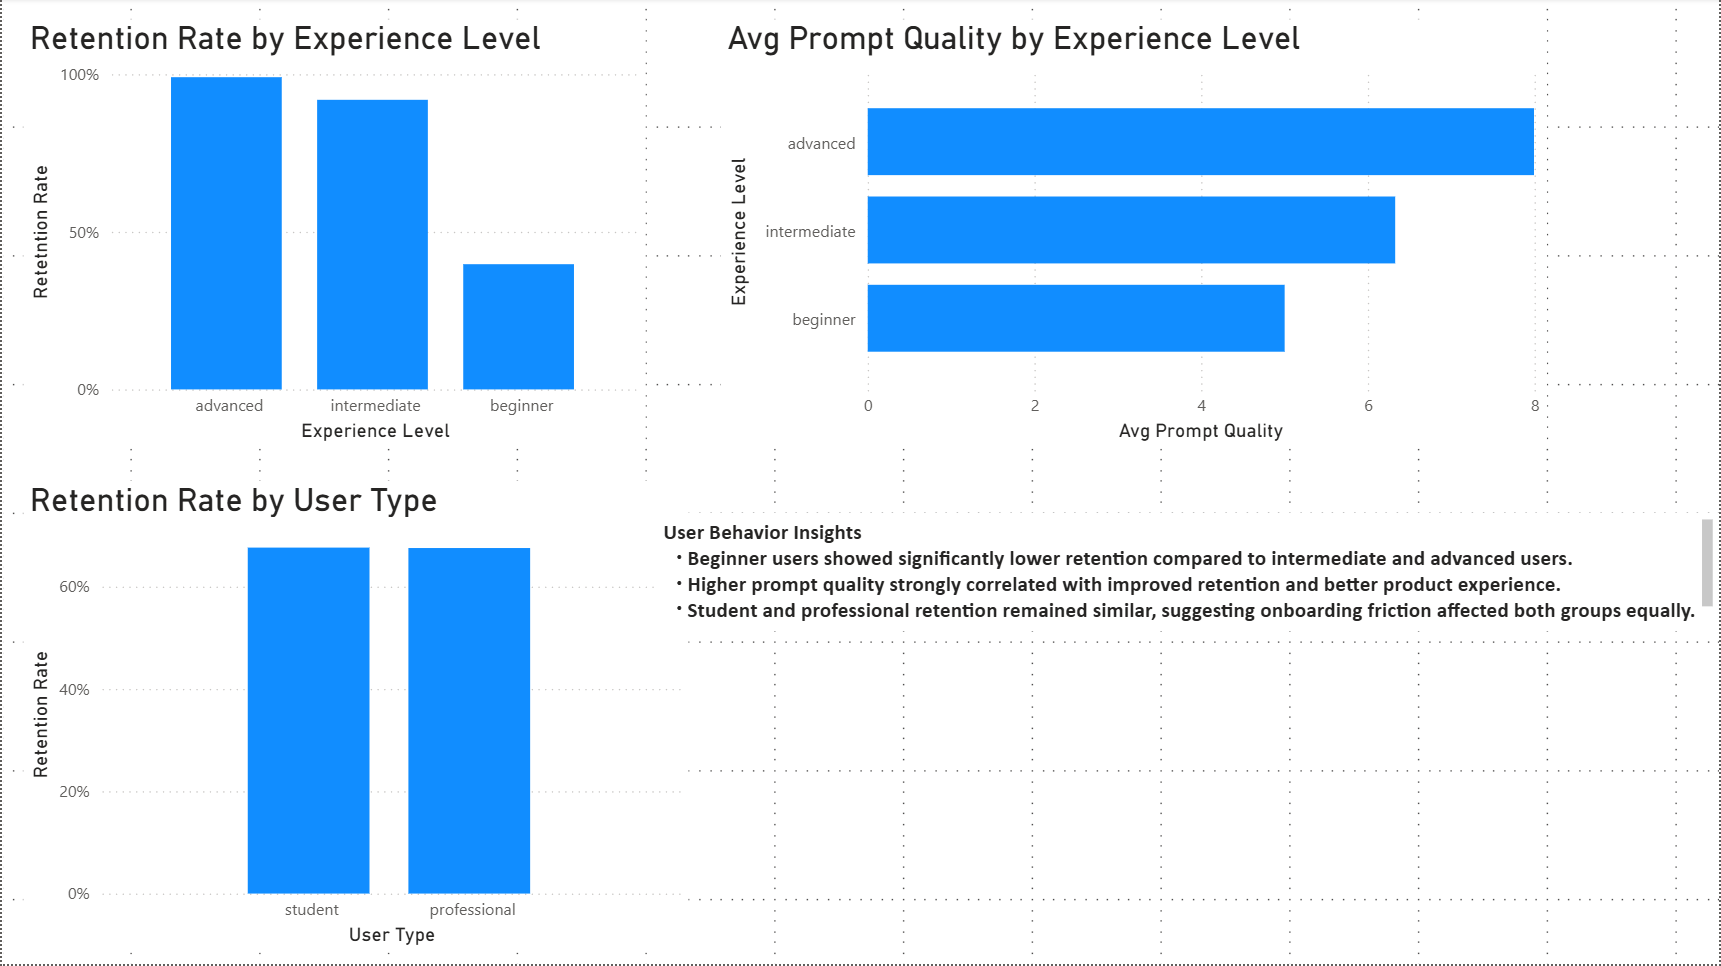

What the dashboard file says about the page in this screenshot:
{"tool":"powerbi","page":{"name":"User Segmentation","canvas":[1280,720],"ordinal":1},"visuals":[{"type":"columnChart","title":"Retention Rate by Experience Level","fields":{"Category":["users.experience_level"],"Y":["Avg(users.retained)"]},"box":[16,16,464,320],"z":0},{"type":"barChart","title":"Avg Prompt Quality by Experience Level","fields":{"Category":["users.experience_level"],"Y":["Avg(experiment_data.prompt_quality_score)"]},"box":[536,16,616,320],"z":1000},{"type":"columnChart","title":"Retention Rate by User Type","fields":{"Y":["Avg(users.retained)"],"Category":["users.user_type"]},"box":[16,360,496,352],"z":2000},{"type":"textbox","box":[488,384,792,88],"z":2001}]}

Visuals, with their boxes in screenshot pixels (x1, y1, x2, y2), scaled from the page's 1280x720 canvas onto the 1721x966 screenshot:
"Retention Rate by Experience Level" columnChart: 22, 21, 645, 451
"Avg Prompt Quality by Experience Level" barChart: 721, 21, 1549, 451
"Retention Rate by User Type" columnChart: 22, 483, 688, 955
textbox: 656, 515, 1720, 633
